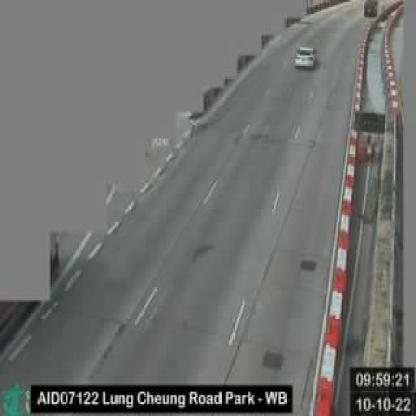Car: (295, 46, 319, 70)
